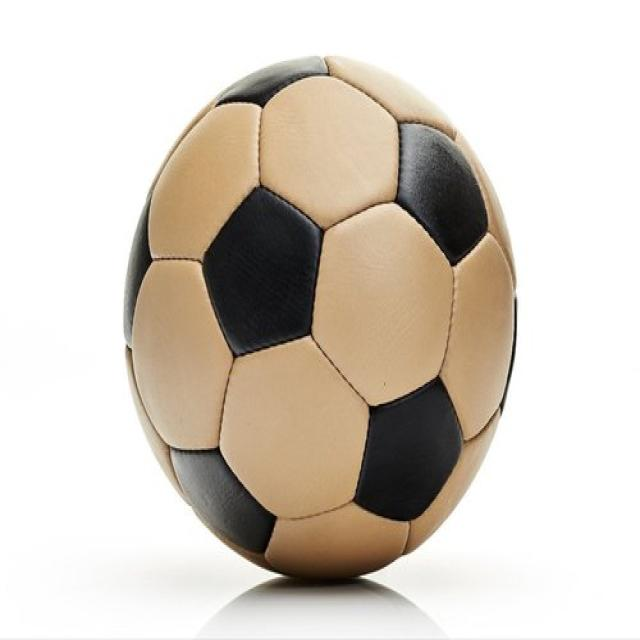soccer ball: (124, 55, 520, 578)
